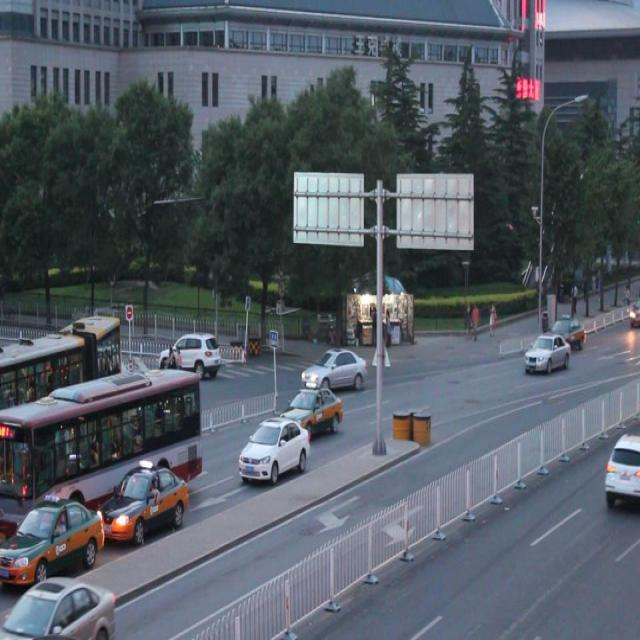car: (1, 491, 106, 588), (0, 573, 118, 640), (105, 460, 189, 546), (238, 412, 308, 483), (159, 332, 218, 384), (300, 348, 368, 393), (285, 386, 342, 438), (602, 429, 640, 504), (128, 367, 172, 413), (523, 331, 569, 375)
van: (1, 372, 200, 544), (1, 314, 123, 410)
